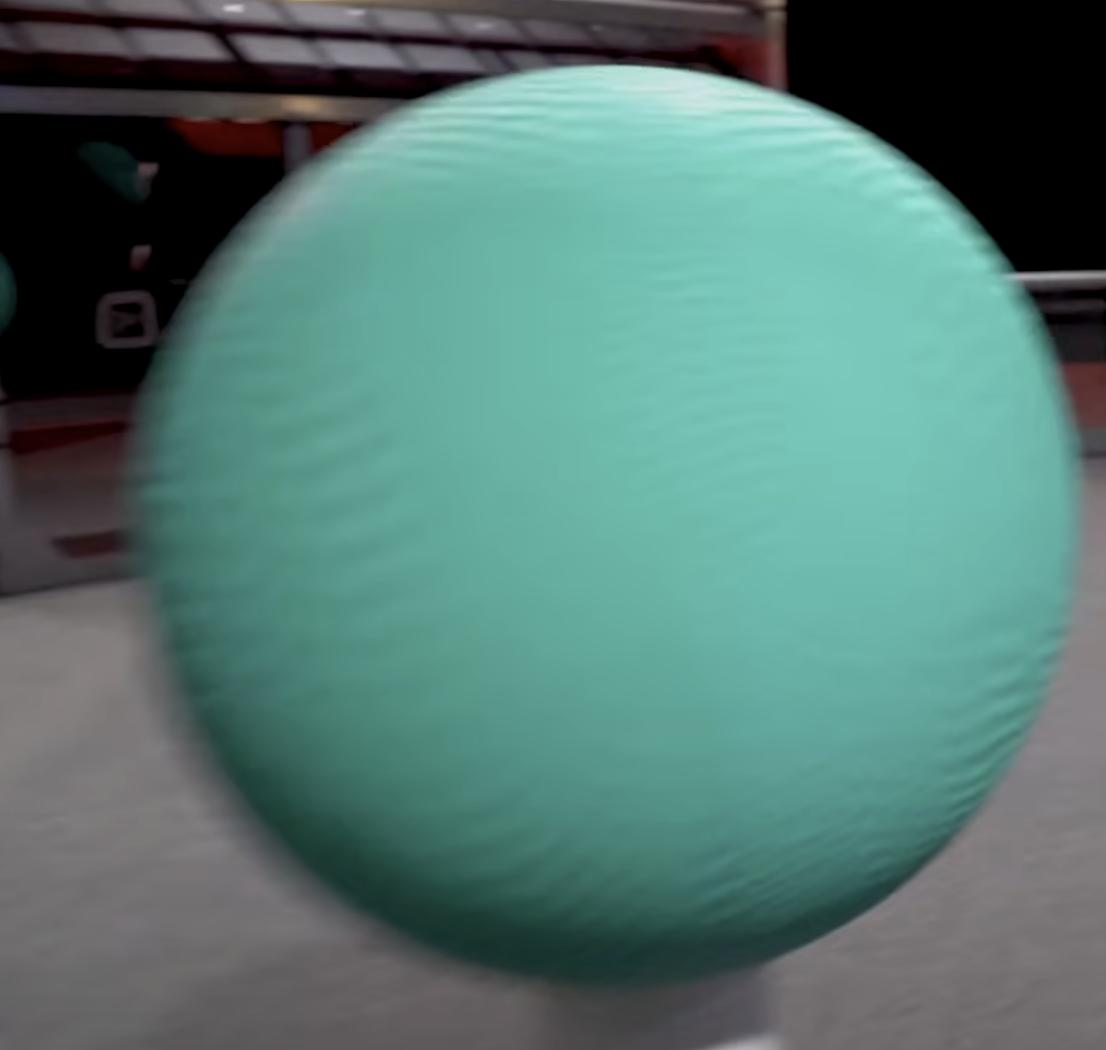algae: (137, 64, 1077, 981)
coral: (530, 983, 777, 1049)
